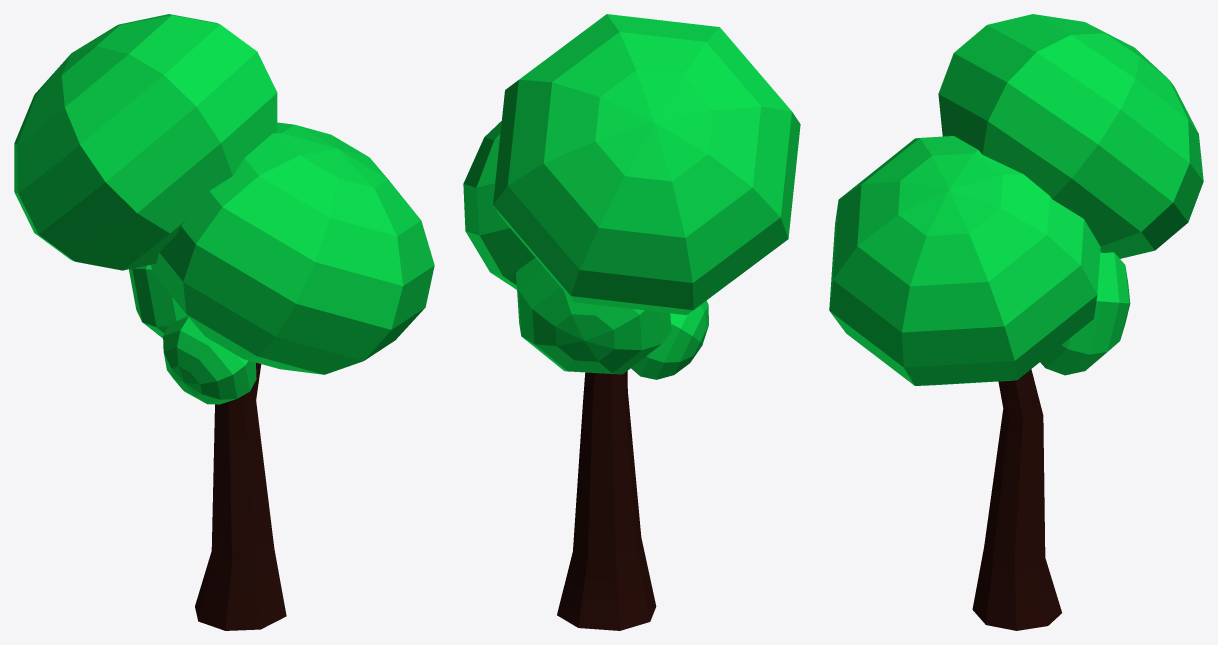
The model's file is tree_04.fbx.
The picture shows the model from 3 angles, left to right: view 1: azimuth 30°, elevation 25°; view 2: azimuth 150°, elevation 25°; view 3: azimuth 270°, elevation 25°; orthographic projection. The views are drawn at different scales.
Visible parts, largest first — view 1: tree_04; view 2: tree_04; view 3: tree_04.
Boxes of the visible parts, bbox=[...] form: tree_04: bbox=[14, 14, 434, 630]; tree_04: bbox=[463, 14, 800, 630]; tree_04: bbox=[829, 14, 1203, 630].
Size of the model in its own units: 1313 by 2168 by 1320.
